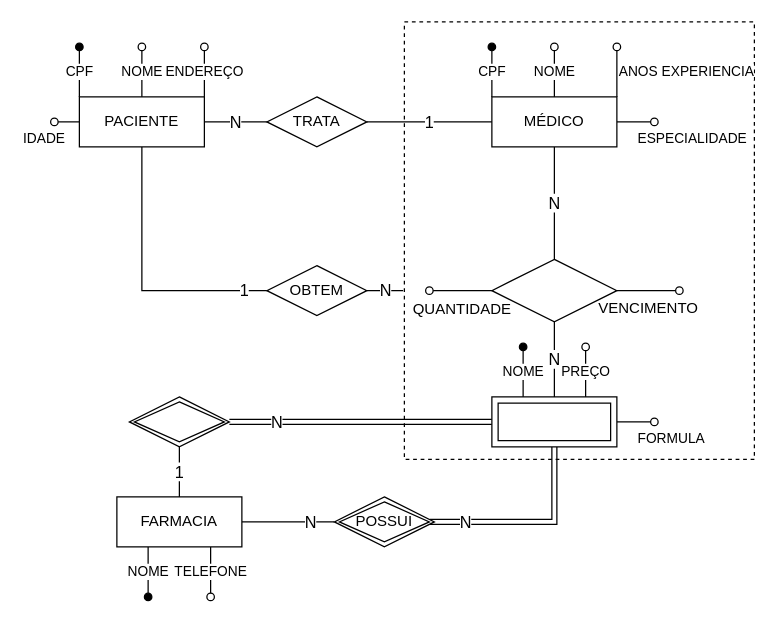
Image size: 776x629. Some labels were removed from this diagram. Here are the shapes that lost their labels. From the top down, the centre of each, then its label:
At (554,290): "PRESCREVE".
At (178,421): "VENDE".
At (554,421): "MEDICAMENTO".
